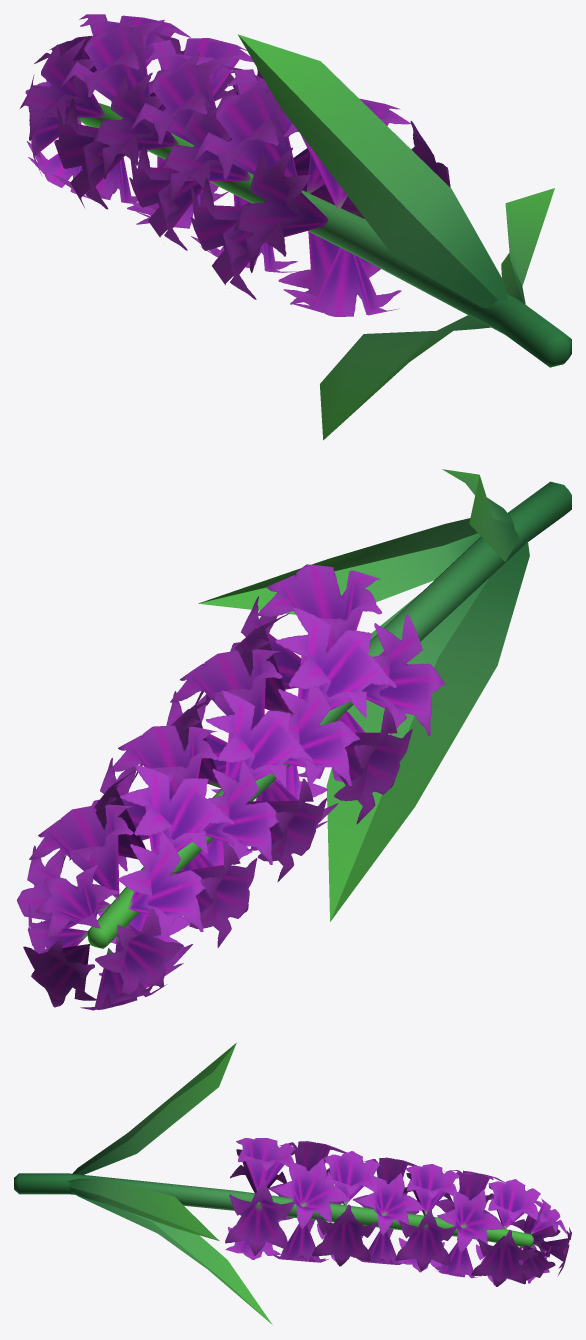
File: SM_Hyacinth_Purple_Small.fbx
3 views of the same model, one above another, from view 1: azimuth 30°, elevation 25°; view 2: azimuth 150°, elevation 25°; view 3: azimuth 270°, elevation 25° (orthographic). The views are drawn at different scales.
Visible parts, largest first — view 1: Hyacinth_Purple_Small; view 2: Hyacinth_Purple_Small; view 3: Hyacinth_Purple_Small.
Boxes of the visible parts, x1=… form: Hyacinth_Purple_Small: x1=20, y1=14, x2=571, y2=440; Hyacinth_Purple_Small: x1=17, y1=469, x2=571, y2=1010; Hyacinth_Purple_Small: x1=14, y1=1042, x2=571, y2=1324.
Size of the model in its own units: 47.52 by 69.08 by 139.
